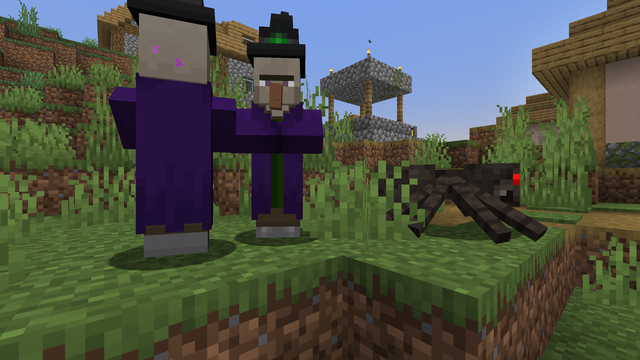araignees: (373, 150, 528, 245)
sorcieres: (133, 1, 225, 267), (242, 40, 316, 244)
